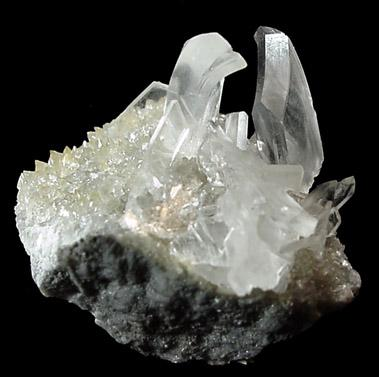gypsum: (17, 31, 356, 296)
